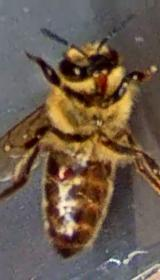varroa_mite: (52, 161, 84, 184)
